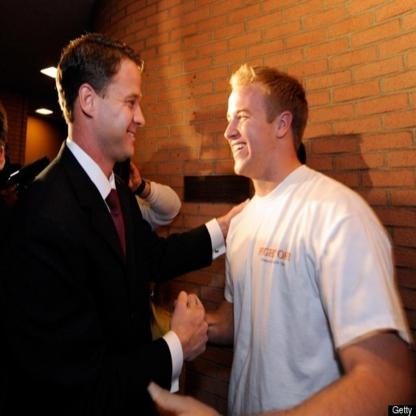face: (97, 58, 146, 159), (226, 84, 278, 177)
